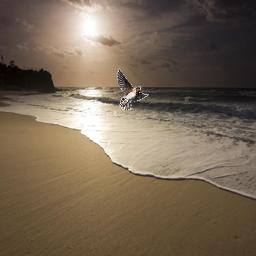Swallow: (117, 68, 150, 110)
